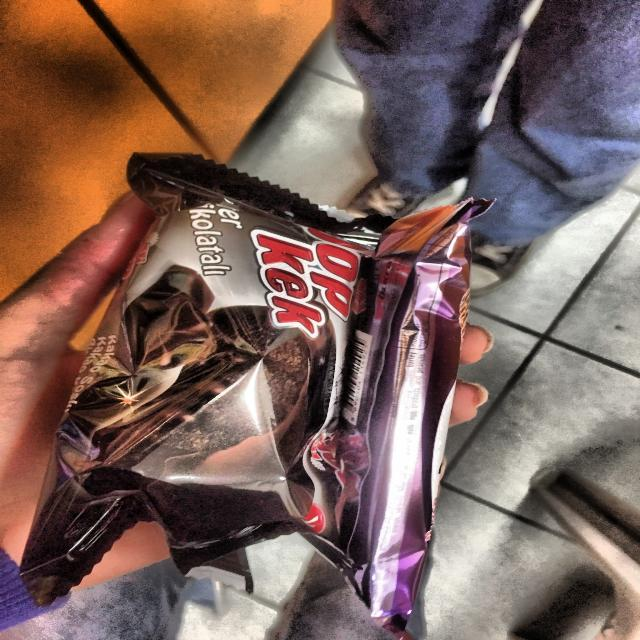Plastic: (28, 173, 408, 570), (306, 174, 499, 627)
